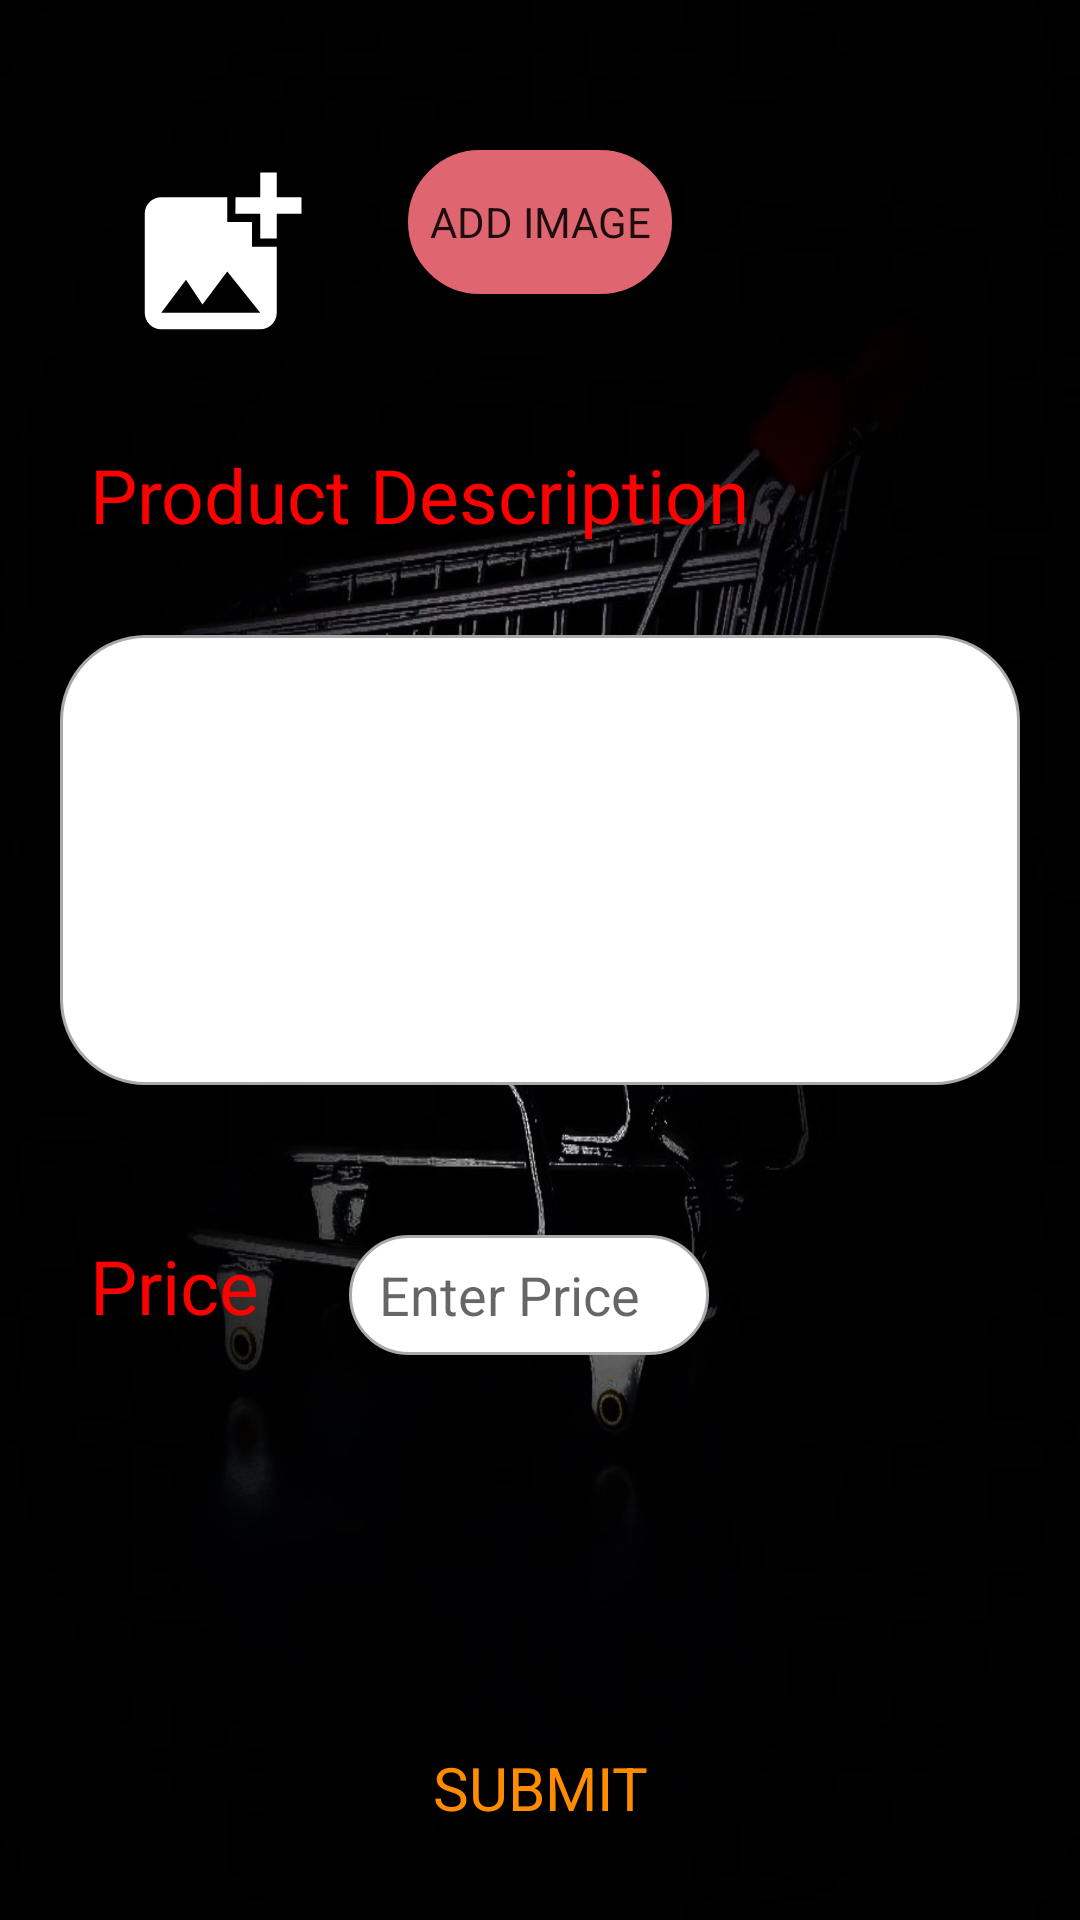

Screen size 1080px x 1920px. Icon name, then its box in pixels as (x1, y1, x2, y2):
add photo alternate: (144, 172, 302, 330)
